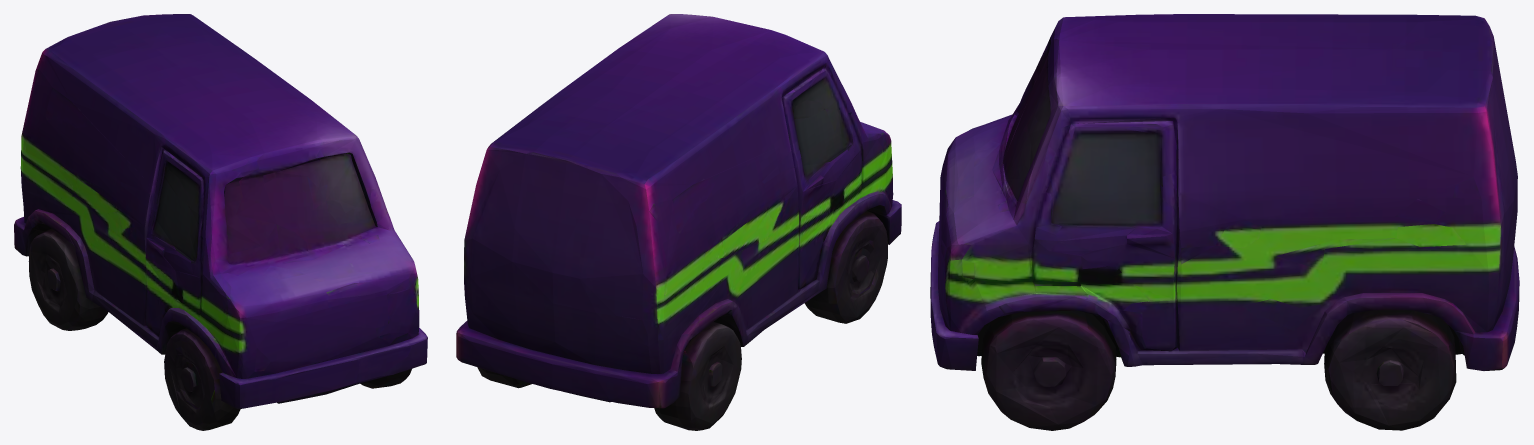
The model's file is car-van.glb.
3 renders of one model, left to right at view 1: azimuth 30°, elevation 25°; view 2: azimuth 150°, elevation 25°; view 3: azimuth 270°, elevation 25°, orthographic. The views are drawn at different scales.
Parts seen in each view (by area): view 1: geometry_0; view 2: geometry_0; view 3: geometry_0.
Boxes of the visible parts, <box> form: geometry_0: <box>14,14,427,430</box>; geometry_0: <box>456,14,901,430</box>; geometry_0: <box>930,14,1519,430</box>.
Bounding box in the file's own units: 0.5067 × 0.6065 × 0.9997.
1 material, 1 textured.
